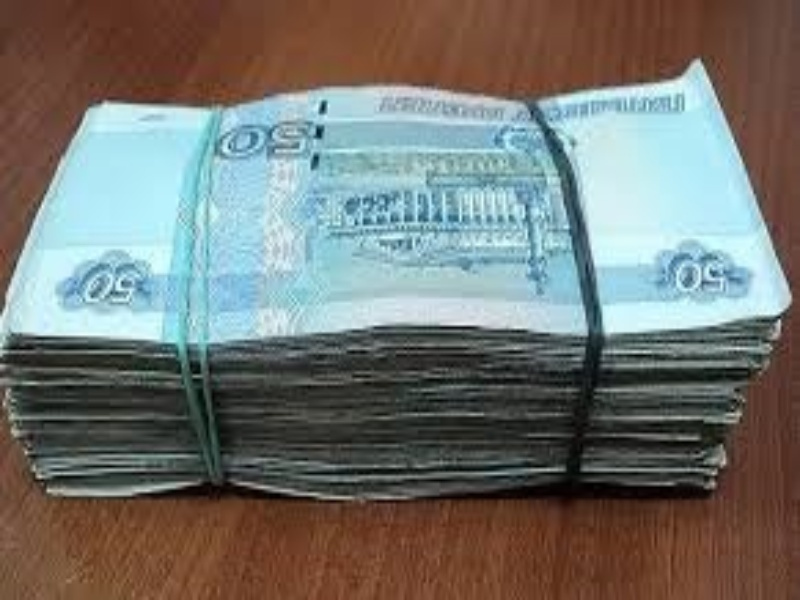cash: (1, 57, 793, 498)
